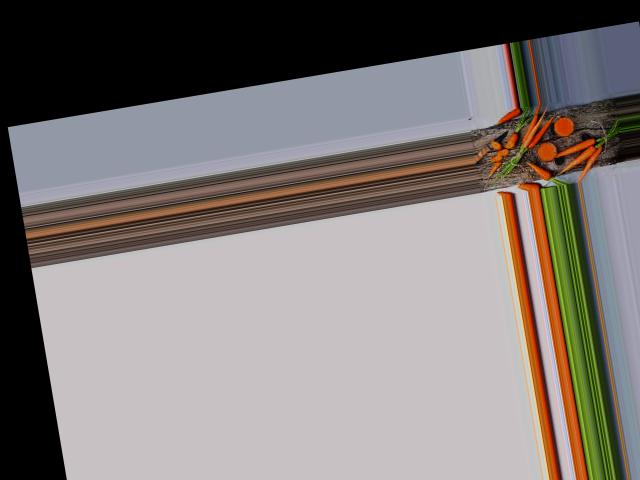carrot: (568, 142, 614, 182)
